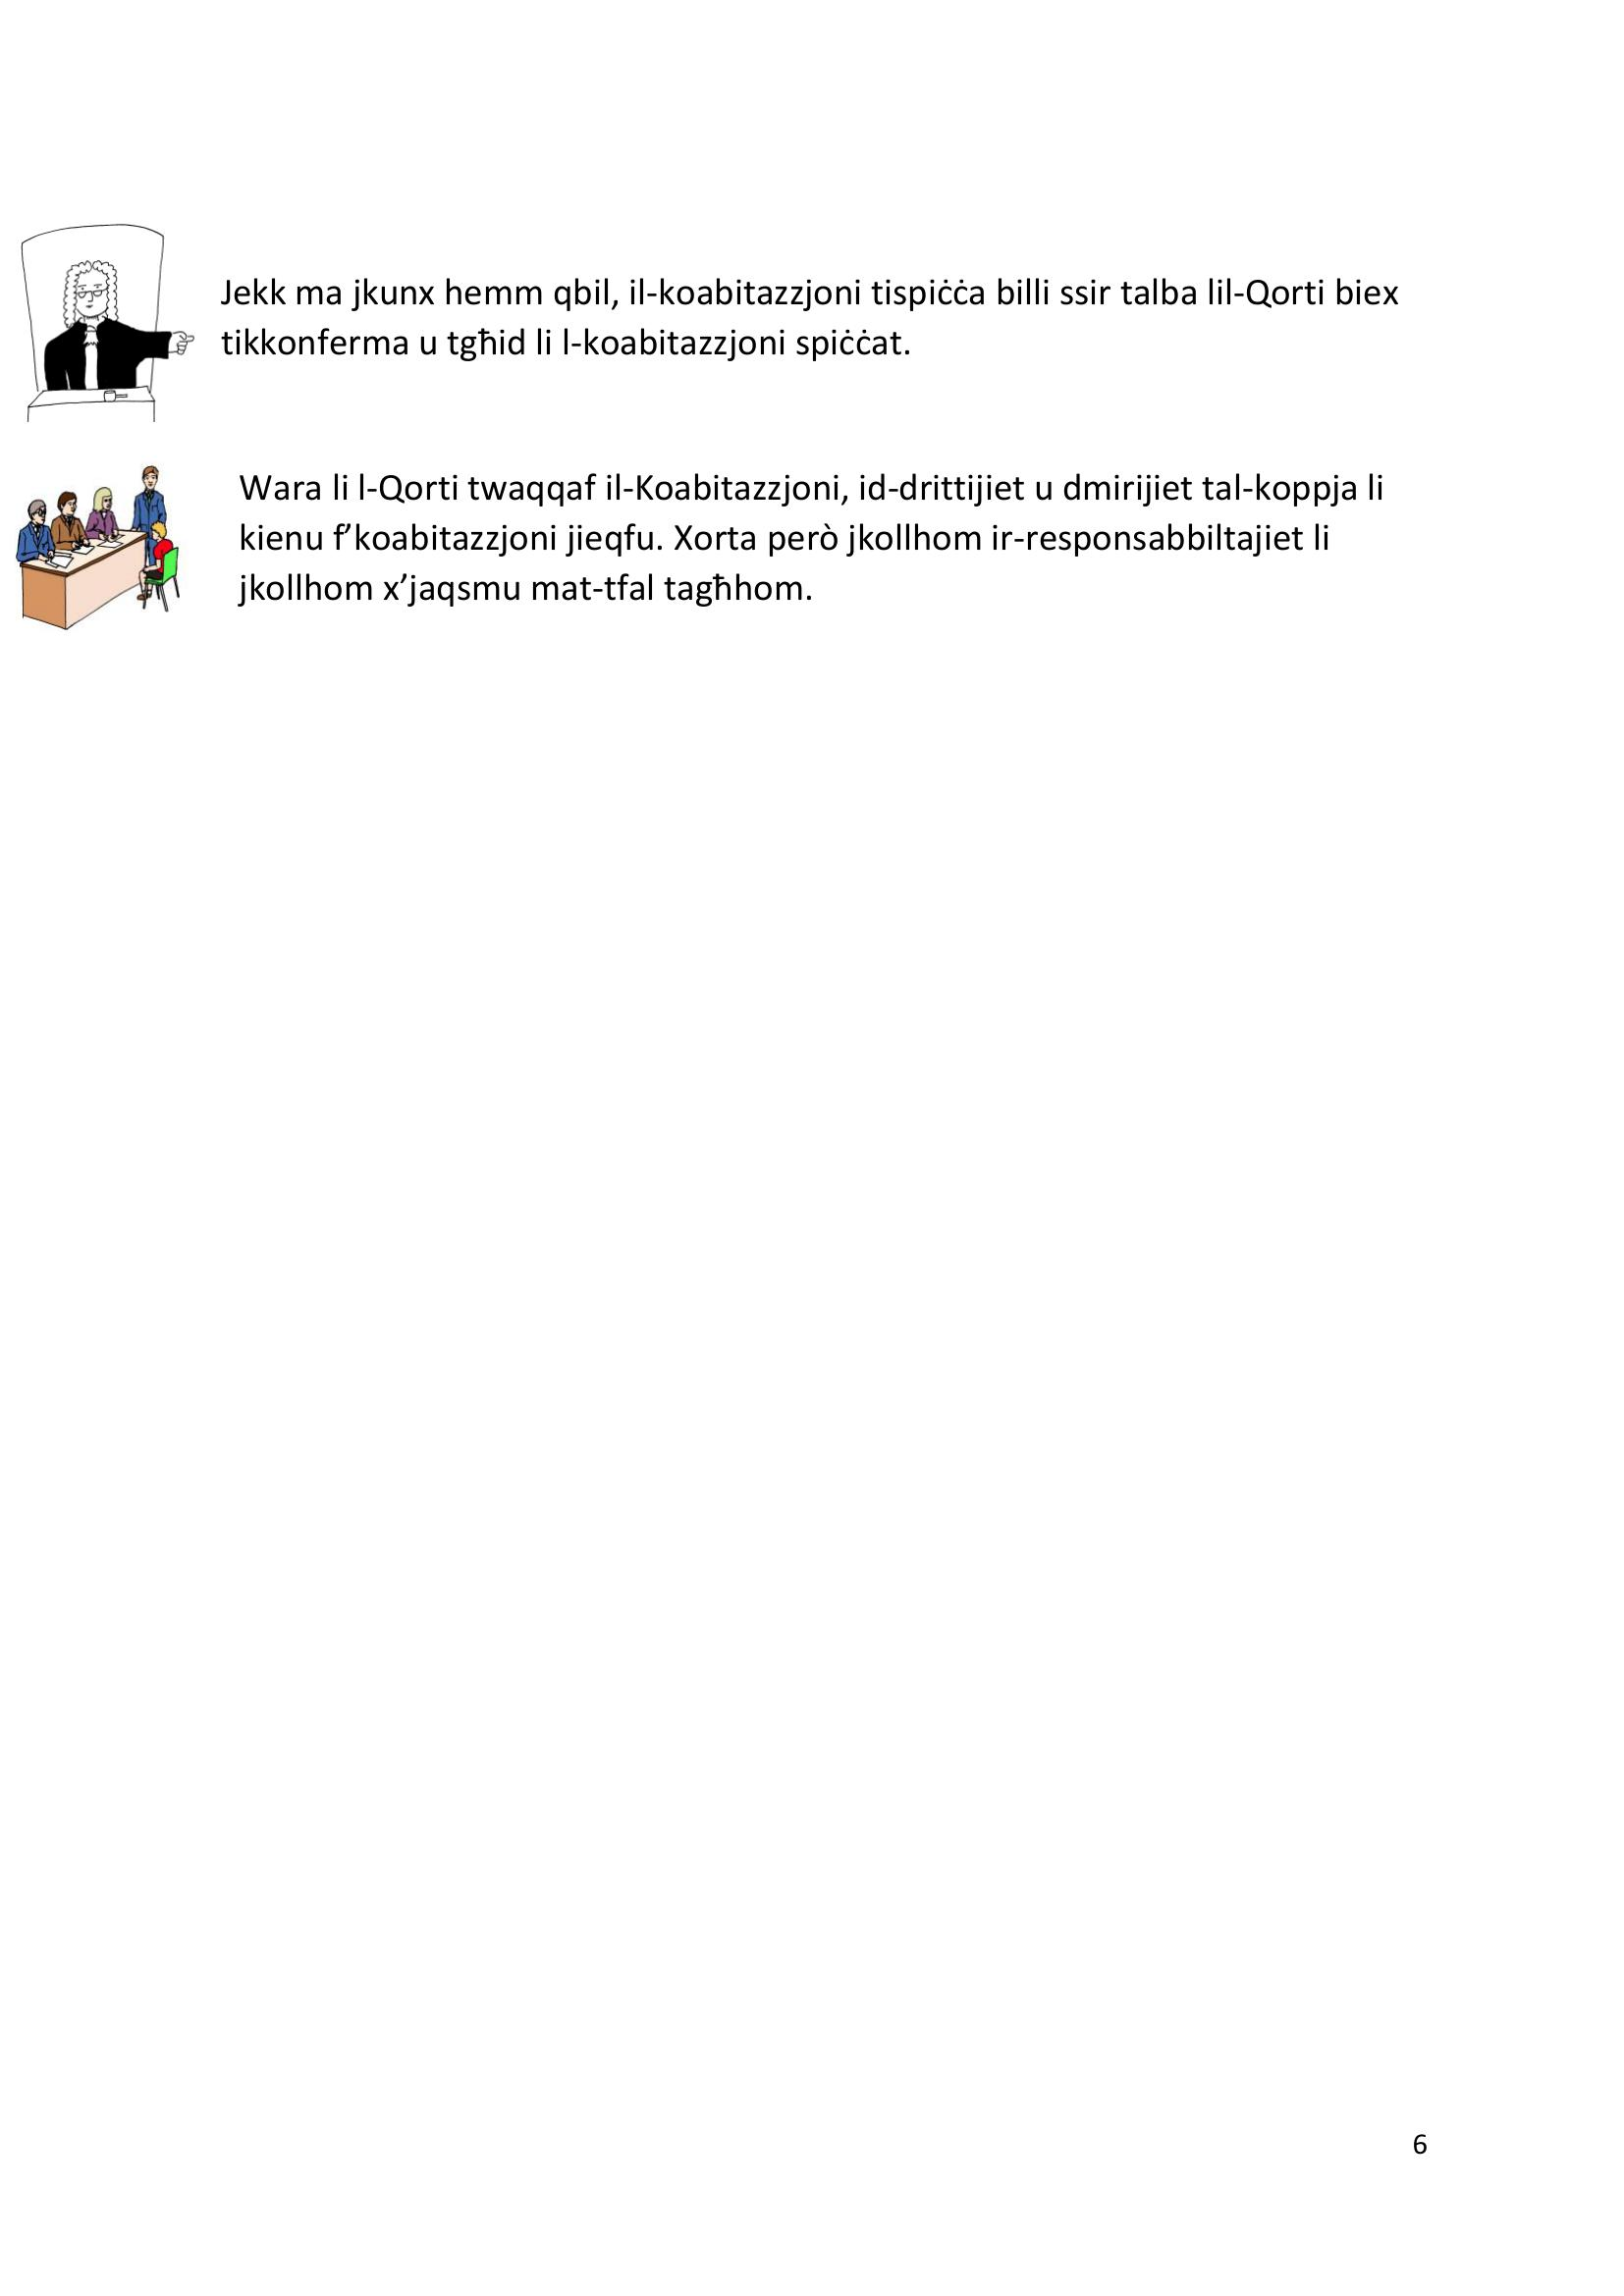text: (209, 256, 1410, 624)
